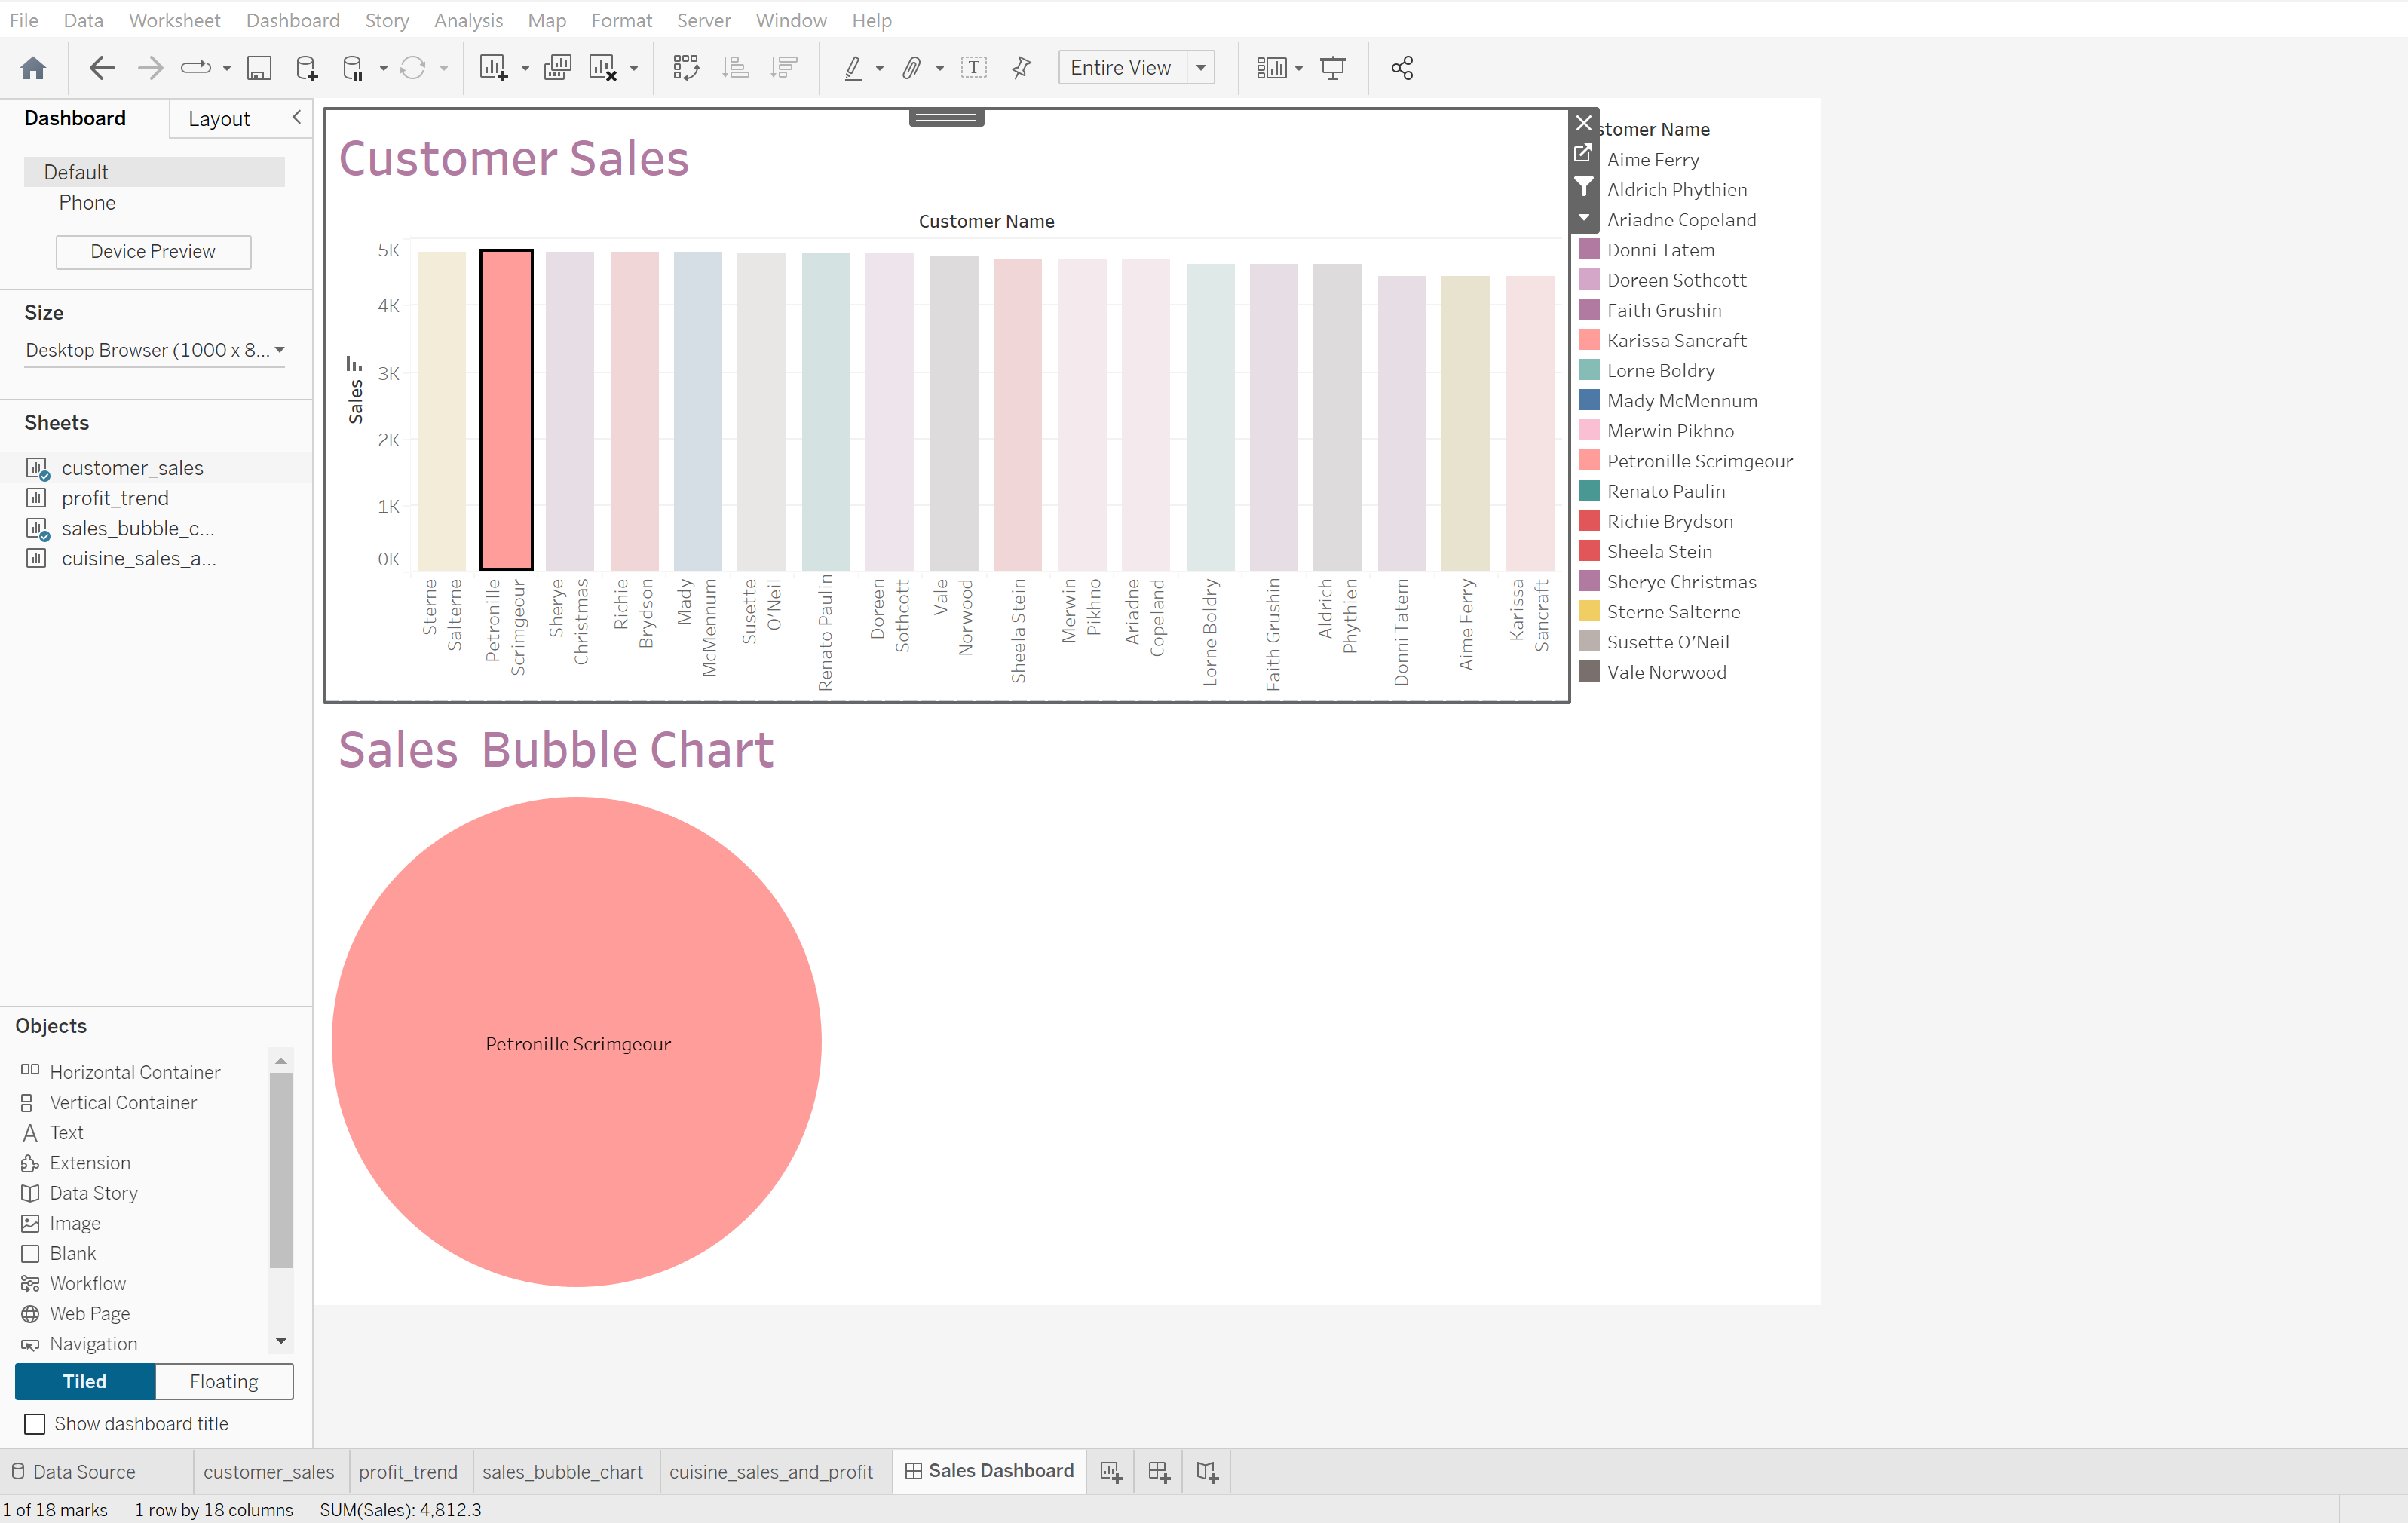

The page's visual inventory and layout, read from the dashboard file:
{"tool":"tableau","page":{"name":"Sales Dashboard","canvas":[1000,800],"ordinal":0},"visuals":[{"type":"worksheet","title":"customer_sales","mark":"Automatic","rows":["Sales"],"cols":["Customer Name"],"box":[8,8,824,392]},{"type":"legend","title":"customer_sales","param":"[federated.0xs2amb0cegjk515yu5d316qtbtx].[none:Customer Name:nk]","box":[832,8,160,386]},{"type":"worksheet","title":"sales_bubble_chart","mark":"Circle","box":[8,400,824,392]}]}

Visuals, with their boxes on the page's 1000x800 design canvas (x1, y1, x2, y2). These are canvas units, not pixel positions in the 2408x1523 screenshot, which may show the page scaled, cropped or inside an application window:
"customer_sales" worksheet: {"left": 8, "top": 8, "right": 832, "bottom": 400}
"customer_sales" legend: {"left": 832, "top": 8, "right": 992, "bottom": 394}
"sales_bubble_chart" worksheet (Circle marks): {"left": 8, "top": 400, "right": 832, "bottom": 792}
